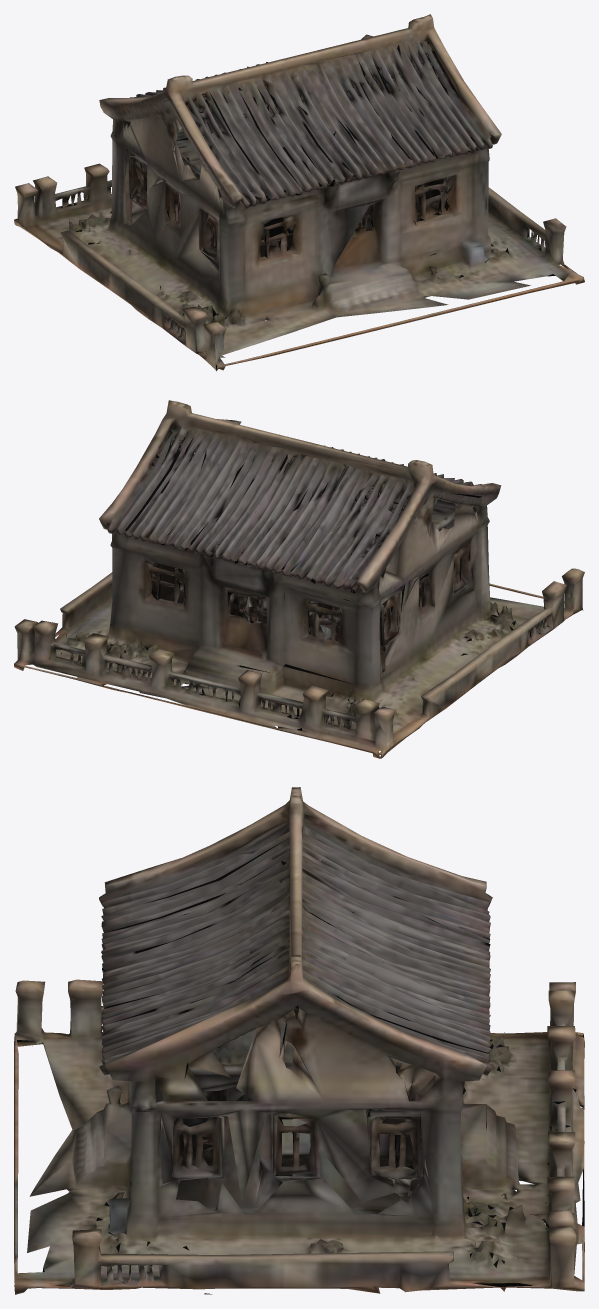
The picture shows the model from 3 angles, top to bottom: view 1: azimuth 30°, elevation 25°; view 2: azimuth 150°, elevation 25°; view 3: azimuth 270°, elevation 25°; orthographic projection. The views are drawn at different scales.
Parts seen in each view (by area): view 1: lo; view 2: lo; view 3: lo.
Part boxes in pixels (<box>): lo: <box>14,14,584,371</box>; lo: <box>14,400,584,758</box>; lo: <box>14,787,584,1294</box>.
Size of the model in its own units: 1.9 by 1.02 by 1.78.
Materials: 1 (1 with a texture image).
